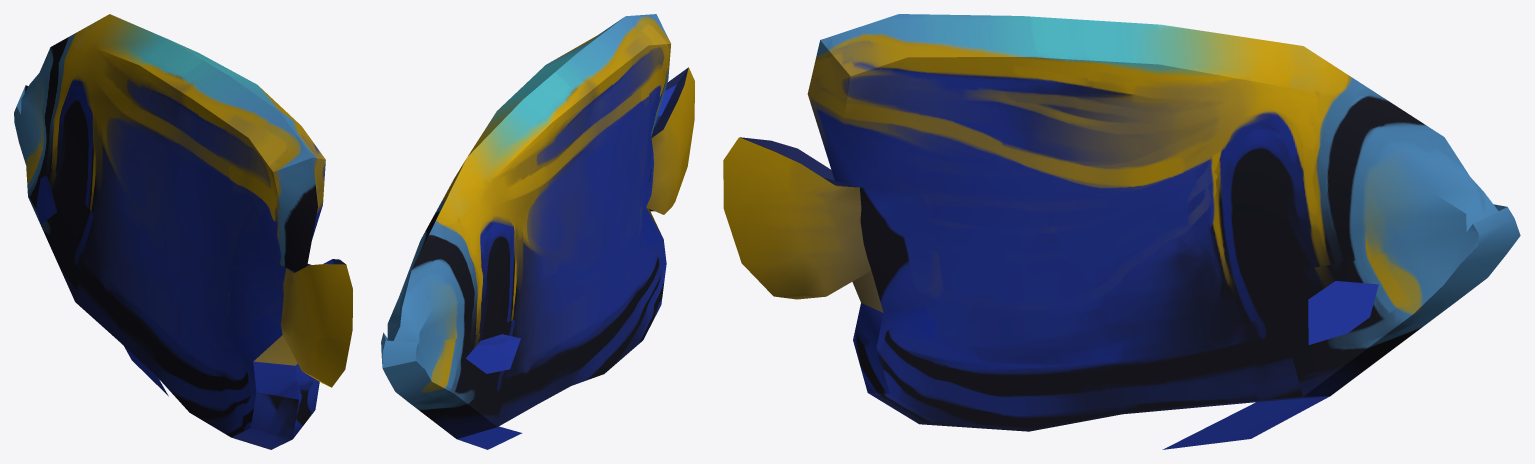
Rendered from BlueFish.fbx.
3 views of the same model, side by side, from view 1: azimuth 30°, elevation 25°; view 2: azimuth 150°, elevation 25°; view 3: azimuth 270°, elevation 25° (orthographic). The views are drawn at different scales.
Visible parts, largest first — view 1: Plane; view 2: Plane; view 3: Plane.
Boxes of the visible parts, box(x1,y1,x2,y2) form: Plane: box(14, 14, 352, 449); Plane: box(381, 14, 694, 449); Plane: box(723, 14, 1520, 449).
Size of the model in its own units: 51.74 by 150 by 249.
